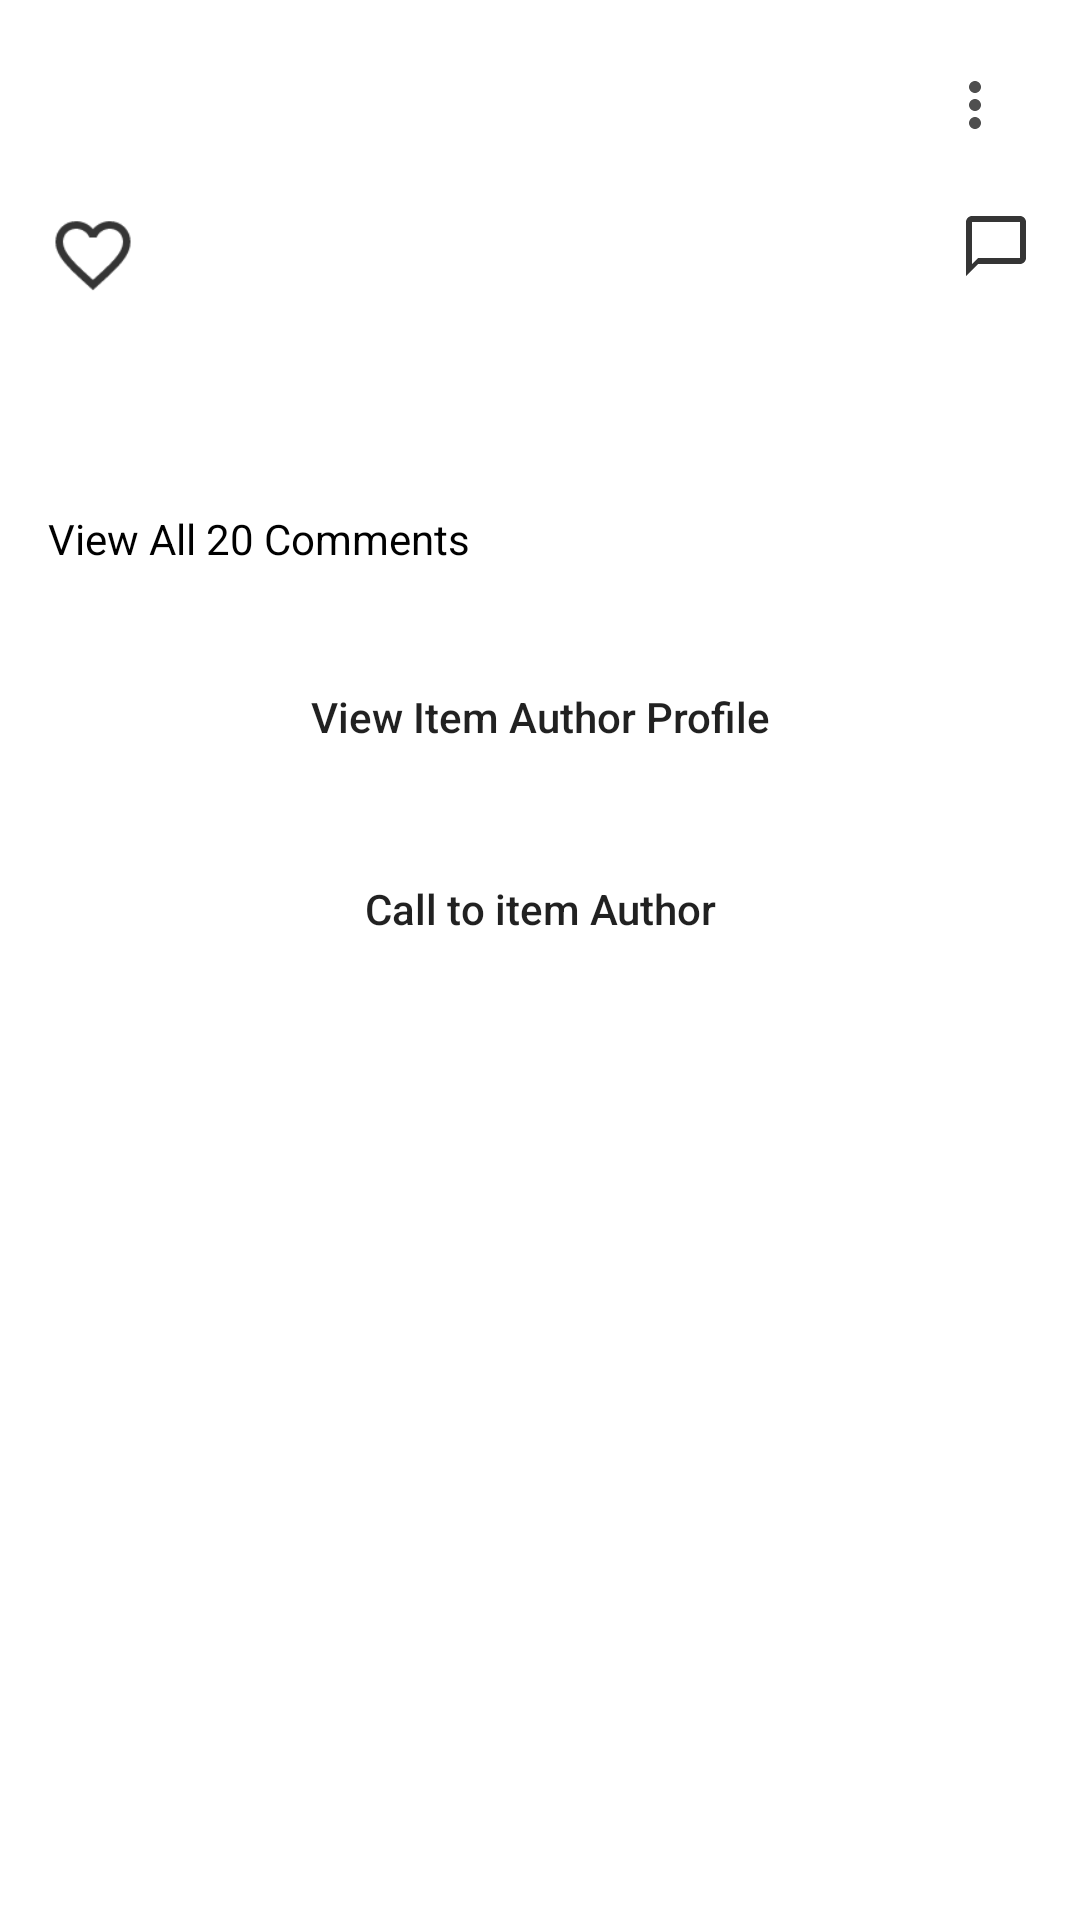

Where icons sit on this 1080w x 1920h app screen, as (x1, y1, x2, y2):
comment: (966, 216, 1026, 276)
like: (55, 221, 131, 290)
more: (969, 81, 981, 129)
